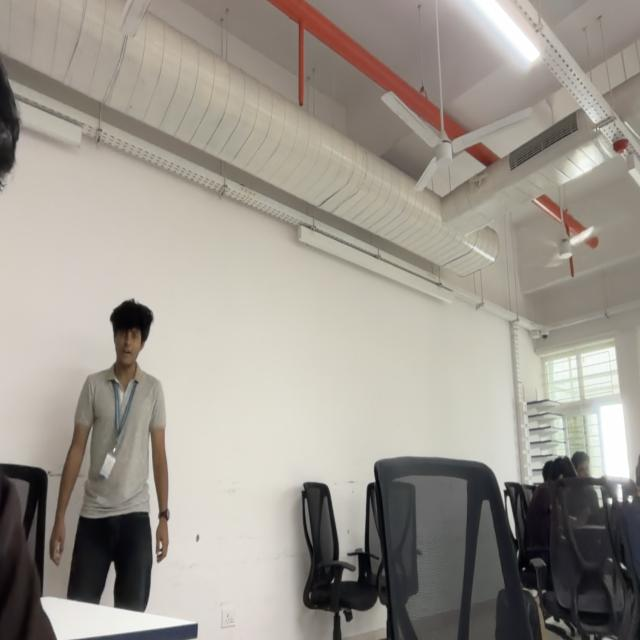kshitij: (112, 299, 152, 366)
